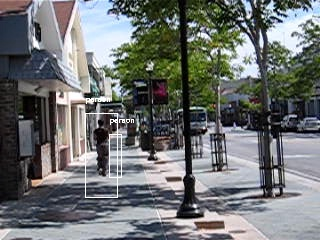person: (94, 122, 113, 179), (93, 122, 112, 179), (95, 122, 114, 179), (94, 121, 113, 178), (94, 123, 113, 180)
target_negative: (20, 29, 192, 163), (51, 99, 194, 183), (234, 123, 258, 194), (218, 147, 275, 167), (224, 99, 318, 110)
